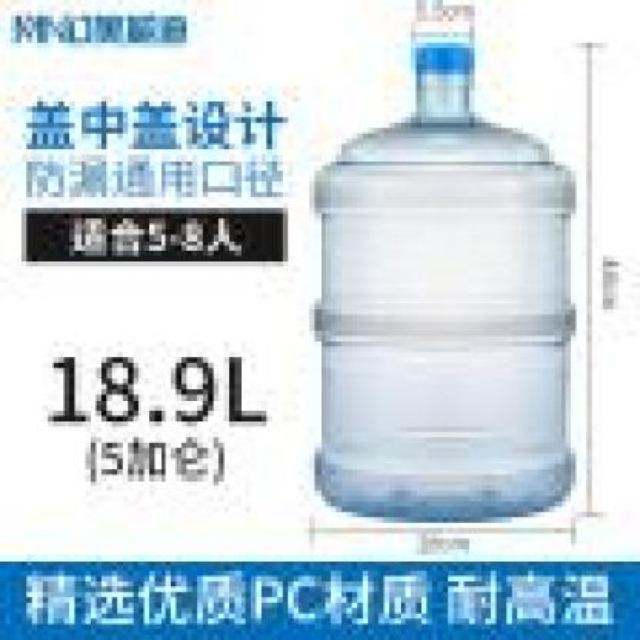coolerbottle: (306, 38, 583, 530)
